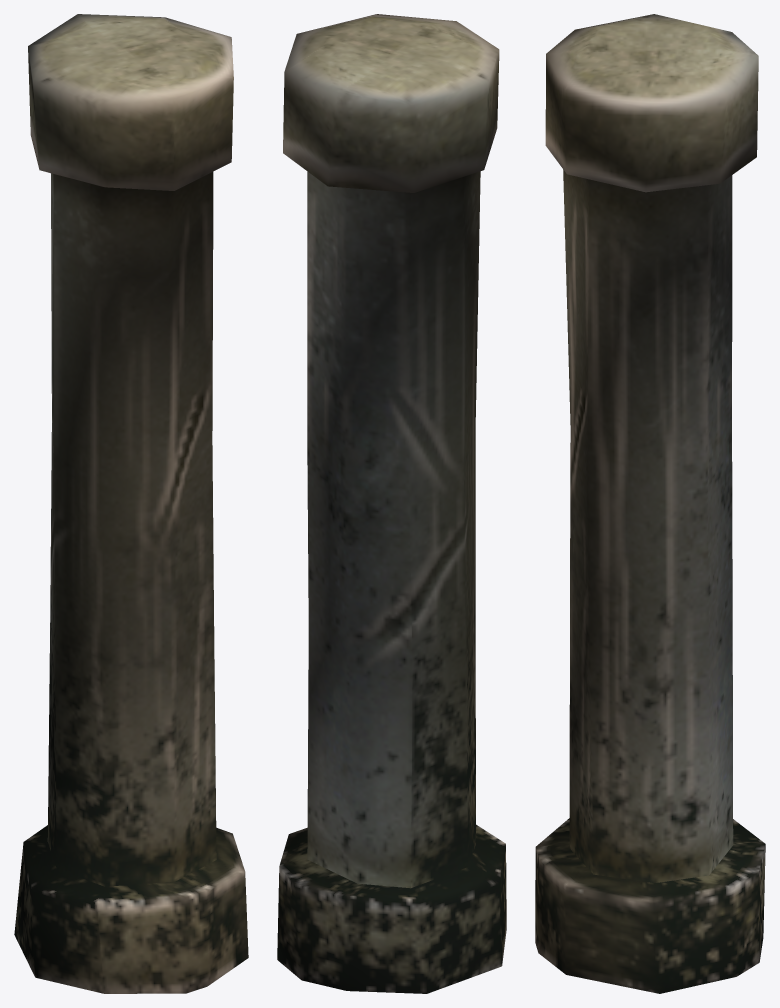
File: zamok6.fbx
The picture shows the model from 3 angles, left to right: view 1: azimuth 30°, elevation 25°; view 2: azimuth 150°, elevation 25°; view 3: azimuth 270°, elevation 25°; orthographic projection.
Visible parts, largest first — view 1: Lp+.006; view 2: Lp+.006; view 3: Lp+.006.
Boxes of the visible parts, box(x1,y1,x2,y2) form: Lp+.006: box(14, 14, 248, 993); Lp+.006: box(277, 14, 506, 993); Lp+.006: box(535, 14, 765, 993).
Bounding box in the file's own units: 278 × 1145 × 268.
